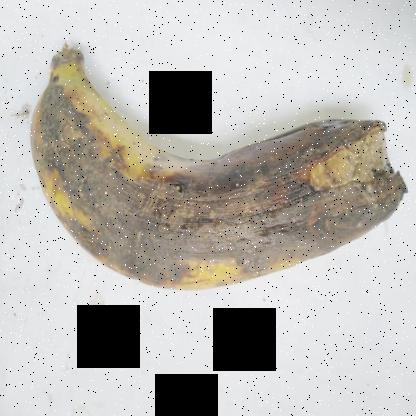rotten: (25, 45, 410, 312)
